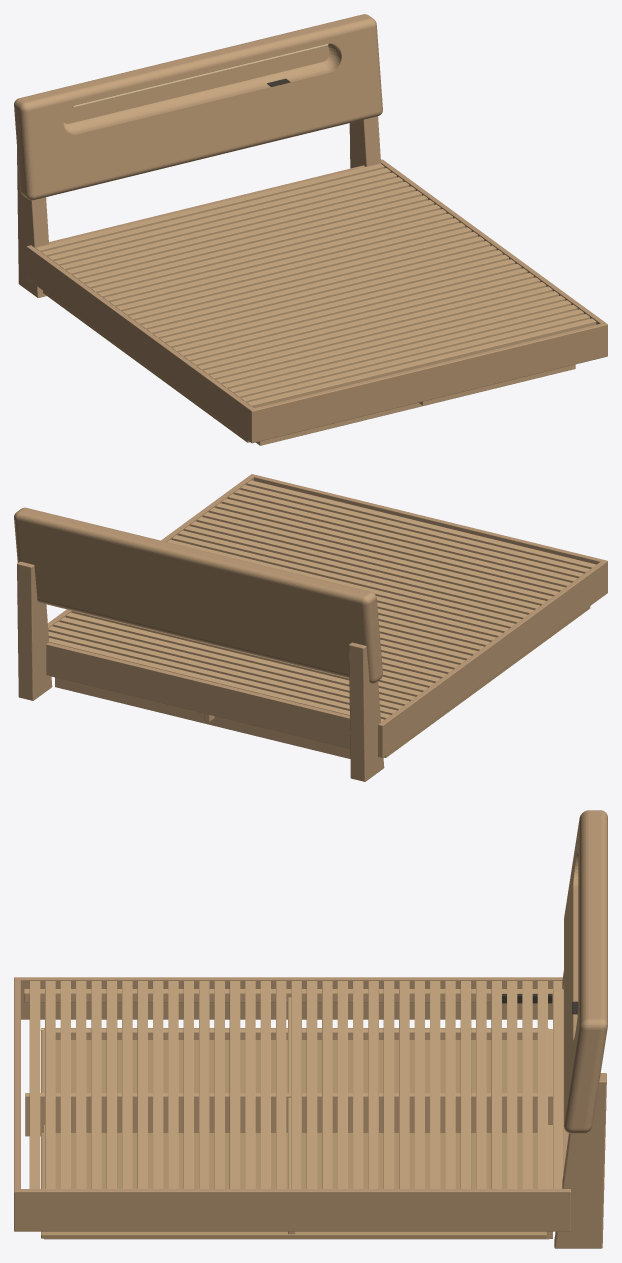
File: bed-yeswood-y83b33-v1.glb
The picture shows the model from 3 angles, top to bottom: view 1: azimuth 30°, elevation 25°; view 2: azimuth 150°, elevation 25°; view 3: azimuth 270°, elevation 25°; orthographic projection. The views are drawn at different scales.
Parts seen in each view (by area): view 1: Rounded oak headboard, Oak footboard, Oak side rail L, Recessed shelf rear board, Pine slat 01, Pine slat 09, Pine slat 13, Pine slat 05, Pine slat 14, Pine slat 22, Pine slat 26, Pine slat 03 (+34 smaller); view 2: Rounded oak headboard, Oak rear frame, Oak side rail L, Wood headboard upright R, Wood headboard upright L, Inset rear structural stretcher, Oak footboard, Pine slat 01, Pine slat 03, Pine slat 06, Pine slat 10, Pine slat 02 (+29 smaller); view 3: Oak side rail R, Paulownia floor R, Rounded oak headboard, Paulownia floor L, Central storage divider, Oak side rail L, Wood headboard upright R, Pine slat 01, Pine slat 06, Pine slat 14, Pine slat 19, Pine slat 24 (+35 smaller).
Part boxes in pixels (x1,y1,x2,y2): Rounded oak headboard: [14, 14, 382, 200]; Oak footboard: [249, 322, 607, 443]; Oak side rail L: [26, 245, 254, 442]; Recessed shelf rear board: [63, 46, 329, 123]; Pine slat 01: [247, 318, 596, 407]; Pine slat 09: [197, 282, 546, 370]; Pine slat 13: [172, 263, 521, 352]; Pine slat 05: [222, 300, 571, 388]; Pine slat 14: [166, 259, 515, 347]; Pine slat 22: [116, 222, 465, 311]; Pine slat 26: [91, 204, 440, 293]; Pine slat 03: [234, 309, 583, 398]; Rounded oak headboard: [14, 507, 382, 683]; Oak rear frame: [46, 642, 350, 748]; Oak side rail L: [378, 560, 607, 757]; Wood headboard upright R: [17, 561, 52, 700]; Wood headboard upright L: [349, 642, 384, 781]; Inset rear structural stretcher: [55, 677, 350, 758]; Oak footboard: [250, 474, 607, 593]; Pine slat 01: [246, 480, 596, 568]; Pine slat 03: [234, 489, 583, 578]; Pine slat 06: [215, 503, 564, 591]; Pine slat 10: [190, 521, 539, 609]; Pine slat 02: [240, 485, 589, 573]; Oak side rail R: [15, 1189, 570, 1231]; Paulownia floor R: [41, 1133, 546, 1238]; Rounded oak headboard: [564, 810, 607, 1133]; Paulownia floor L: [41, 1028, 537, 1092]; Central storage divider: [25, 1093, 552, 1136]; Oak side rail L: [15, 977, 562, 1019]; Wood headboard upright R: [554, 1073, 606, 1248]; Pine slat 01: [29, 981, 40, 1188]; Pine slat 06: [106, 981, 117, 1188]; Pine slat 14: [229, 981, 240, 1188]; Pine slat 19: [306, 981, 317, 1188]; Pine slat 24: [383, 981, 394, 1188].
Size of the model in its own units: 1.84 by 0.917 by 2.15.
